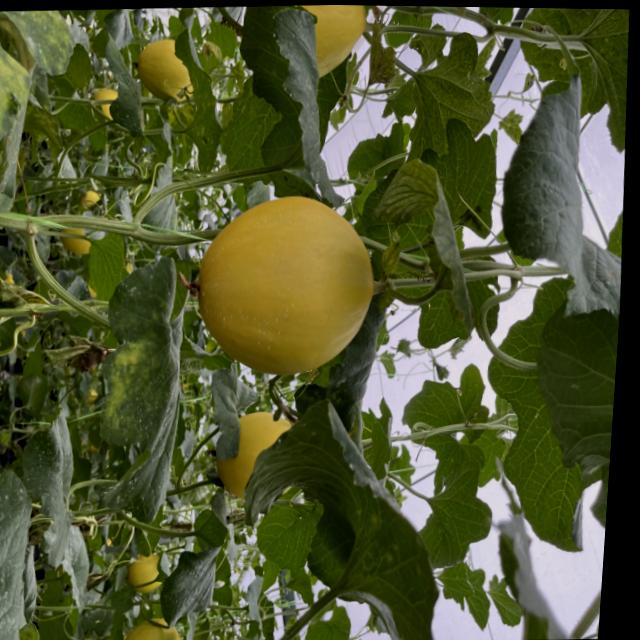CMV: (518, 8, 634, 150), (401, 29, 504, 161)
downy mildew: (225, 400, 453, 640), (82, 253, 204, 513), (0, 8, 88, 158)
healthy: (527, 196, 627, 569)
powdery mildew: (0, 462, 48, 640)
